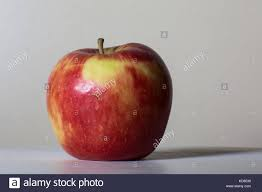apple: (48, 47, 171, 161)
